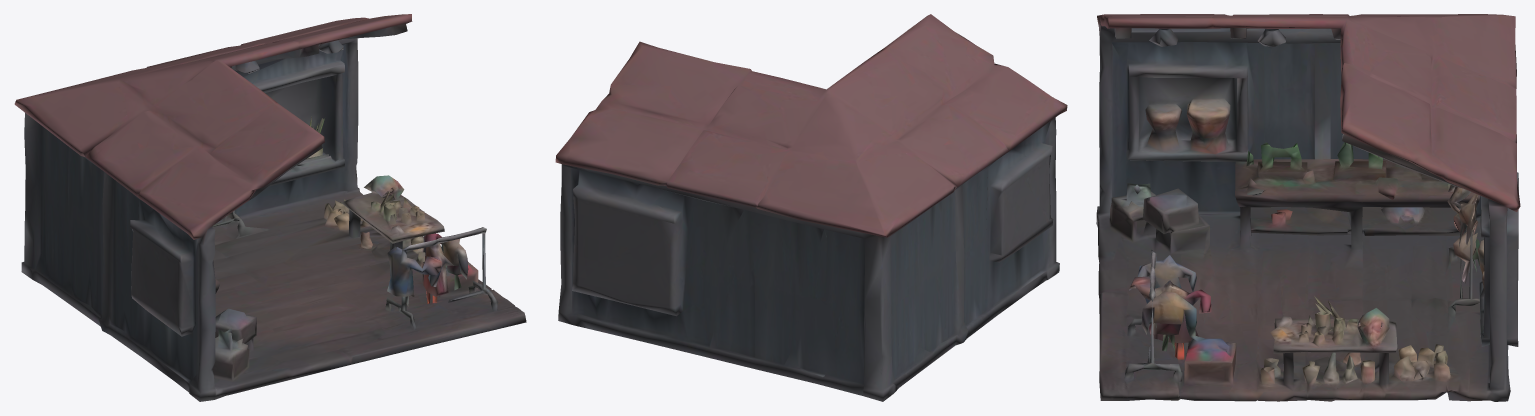
Rendered from carnival_workshop_interior.glb.
The picture shows the model from 3 angles, left to right: view 1: azimuth 30°, elevation 25°; view 2: azimuth 150°, elevation 25°; view 3: azimuth 270°, elevation 25°; orthographic projection. The views are drawn at different scales.
Parts seen in each view (by area): view 1: tripo_node_c7b0ea6f-9239-482c-91b8-d53f4aabd440; view 2: tripo_node_c7b0ea6f-9239-482c-91b8-d53f4aabd440; view 3: tripo_node_c7b0ea6f-9239-482c-91b8-d53f4aabd440.
Part boxes in pixels (x1=…): tripo_node_c7b0ea6f-9239-482c-91b8-d53f4aabd440: x1=14, y1=14, x2=526, y2=401; tripo_node_c7b0ea6f-9239-482c-91b8-d53f4aabd440: x1=555, y1=14, x2=1067, y2=401; tripo_node_c7b0ea6f-9239-482c-91b8-d53f4aabd440: x1=1096, y1=14, x2=1520, y2=401.
Bounding box in the file's own units: 1 × 0.6633 × 0.9436.
1 material, 1 textured.
